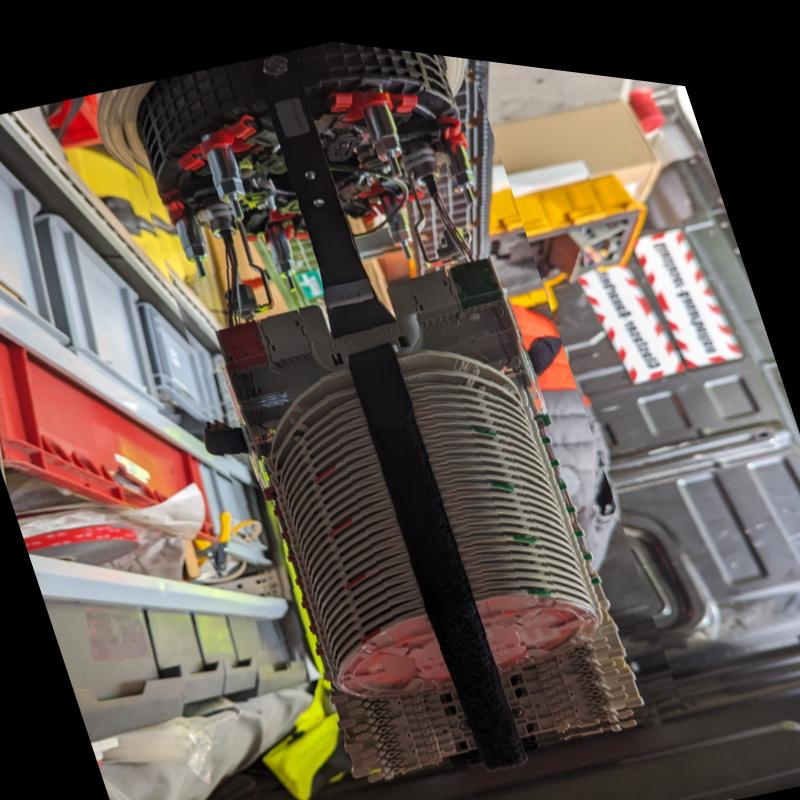NT-Muffen: (96, 10, 686, 800)
